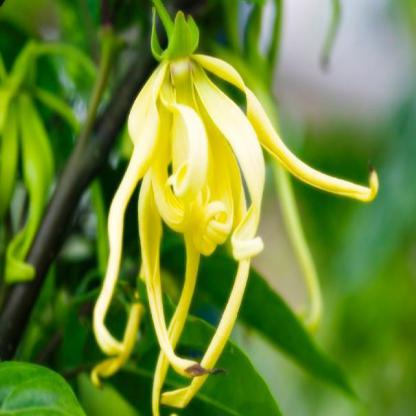Kenanga: (115, 34, 290, 348)
